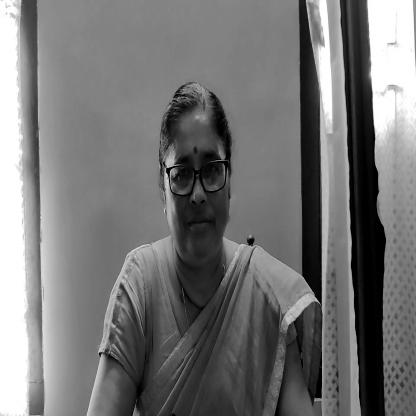Normal: (154, 77, 235, 261)
